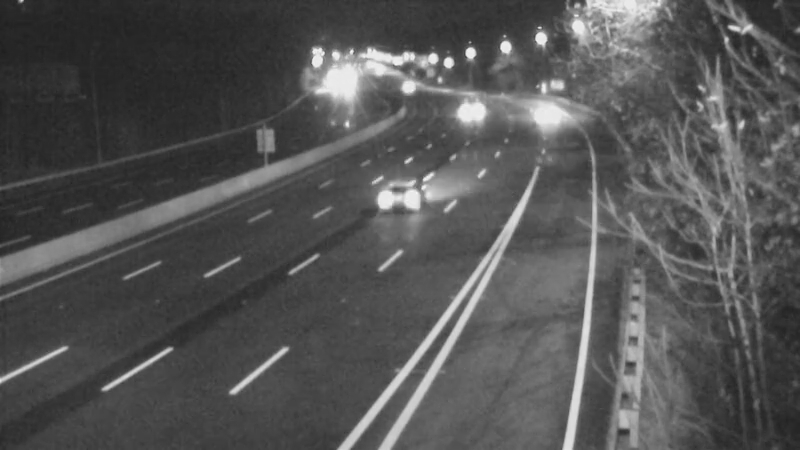vehicle: (370, 153, 450, 233), (379, 59, 429, 109), (514, 88, 564, 138), (443, 82, 493, 132)
